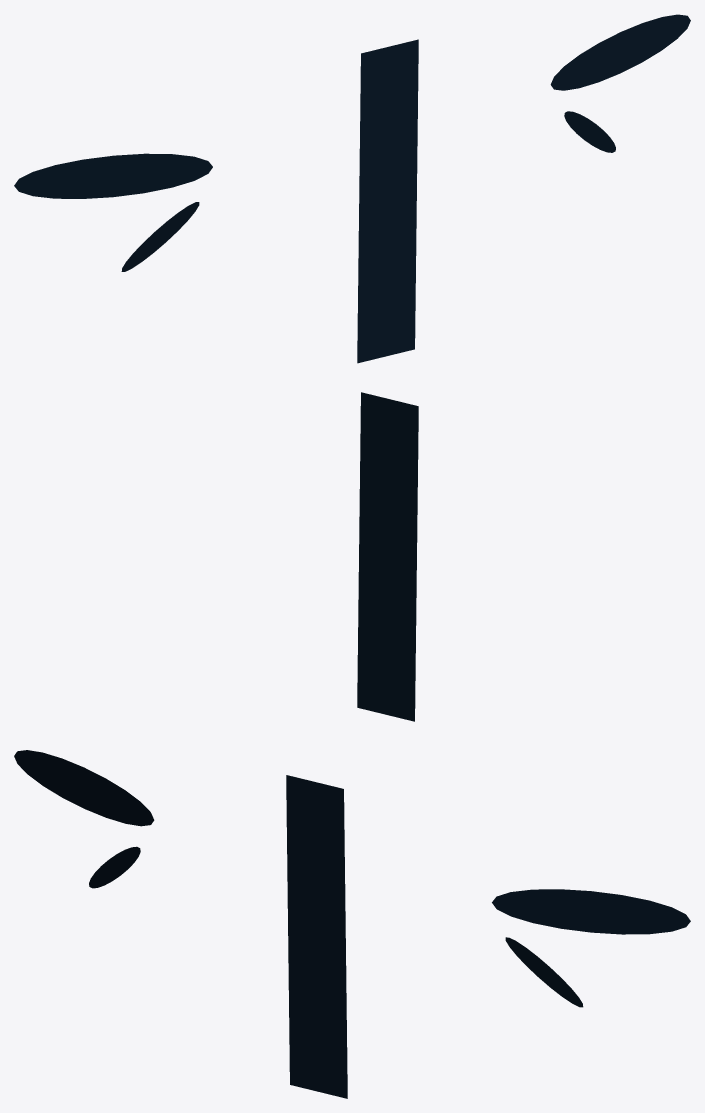
The picture shows the model from 3 angles, top to bottom: view 1: azimuth 30°, elevation 25°; view 2: azimuth 150°, elevation 25°; view 3: azimuth 330°, elevation 25°; orthographic projection.
Visible parts, largest first — view 1: mesh_face_02; view 2: mesh_face_02; view 3: mesh_face_02.
Part boxes in pixels (x1=…): mesh_face_02: x1=14, y1=14, x2=690, y2=363; mesh_face_02: x1=357, y1=392, x2=418, y2=721; mesh_face_02: x1=14, y1=750, x2=690, y2=1098.
Bounding box in the file's own units: 3.69 × 1.63 × 0.3531.
